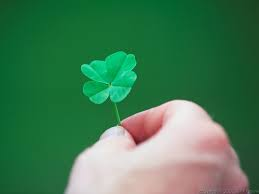4-clover: (81, 50, 138, 104)
